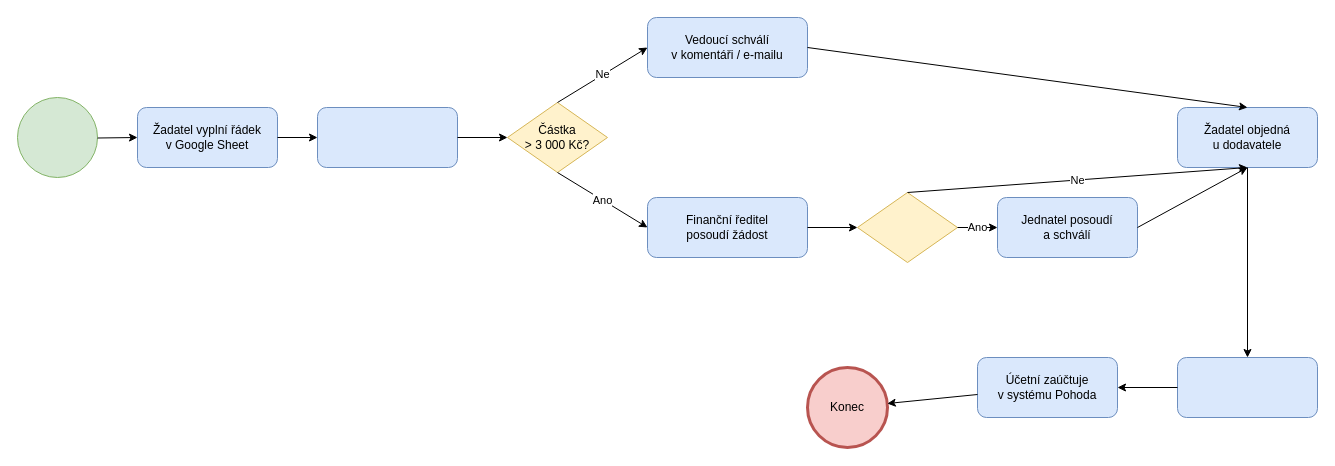
Image size: 1335x466. Some labels were removed from this diagram. Here are the shapes that lost their labels. From the top down, the centre of each, then its label:
(x=57, y=137): Vznikne potřeba nákupu
(x=387, y=137): Vedoucí oddělení posoudí požadavek
(x=907, y=227): Částka > 50 000 Kč?
(x=1247, y=387): Žadatel předá doklad účetní
